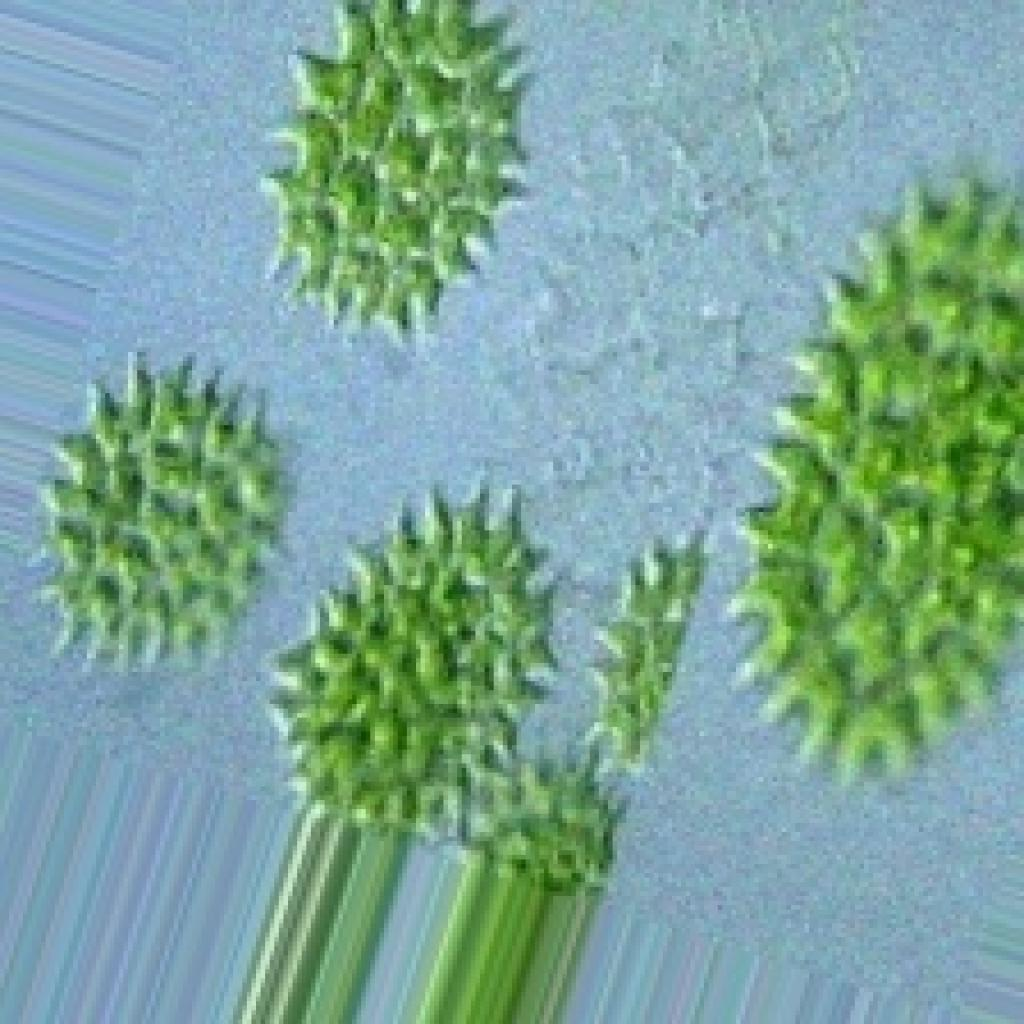Microalgae: (758, 174, 1024, 913), (294, 513, 690, 875), (256, 0, 535, 343), (28, 343, 292, 676)
